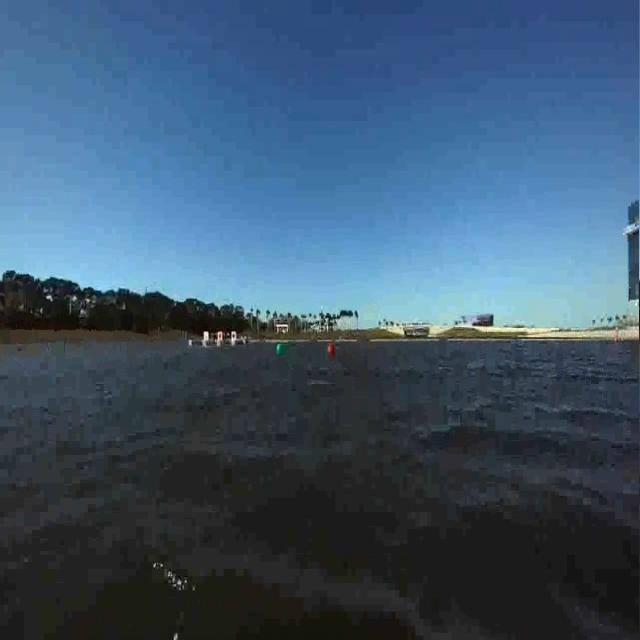green-buoy: (270, 335, 290, 367)
red-buoy: (322, 333, 343, 362)
